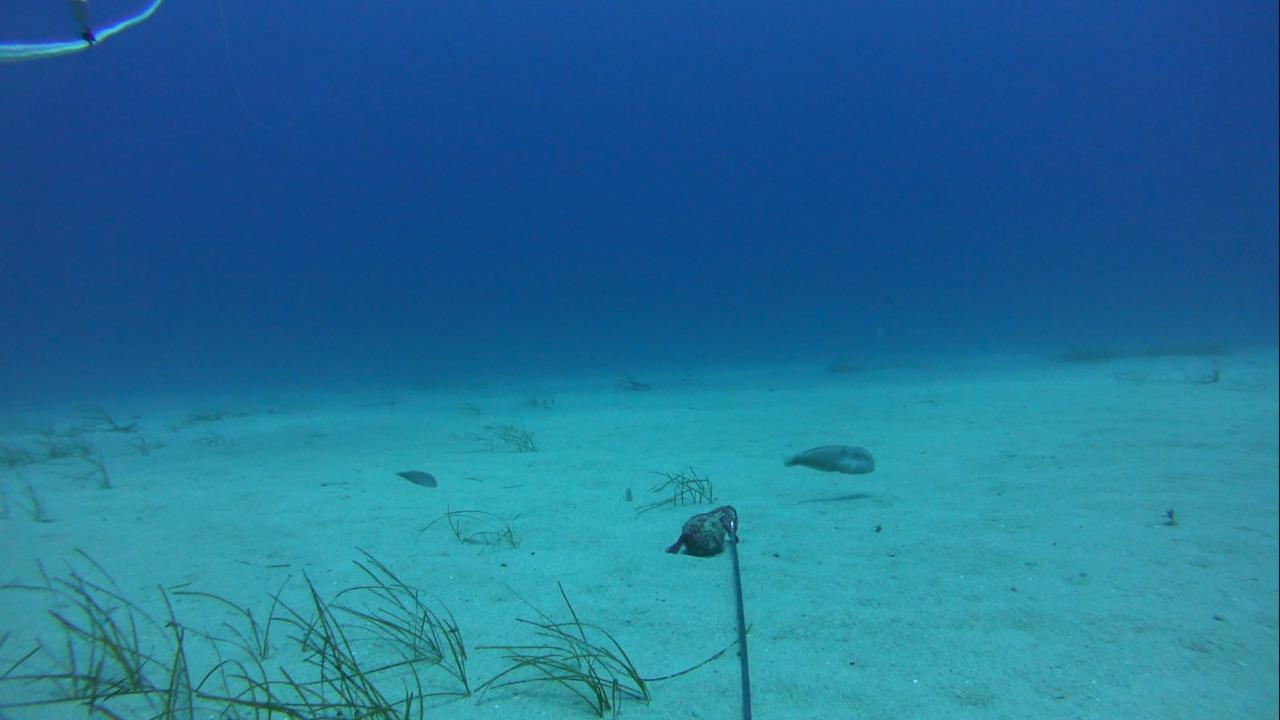raor: (777, 437, 888, 484), (385, 462, 442, 493)
